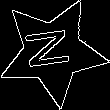N_E: (25, 28, 80, 75)
